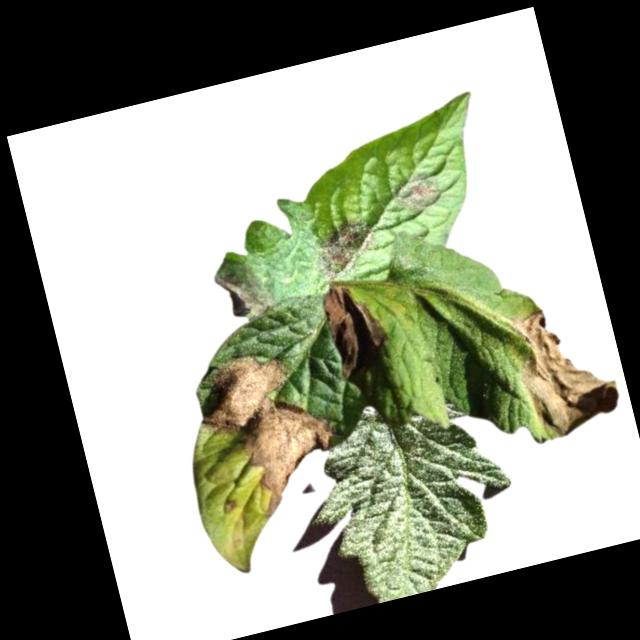Late_blight: (186, 335, 356, 528), (503, 294, 632, 445), (318, 272, 396, 382), (310, 213, 387, 283), (211, 256, 279, 331), (386, 167, 446, 219)
healthy: (288, 377, 533, 613)
